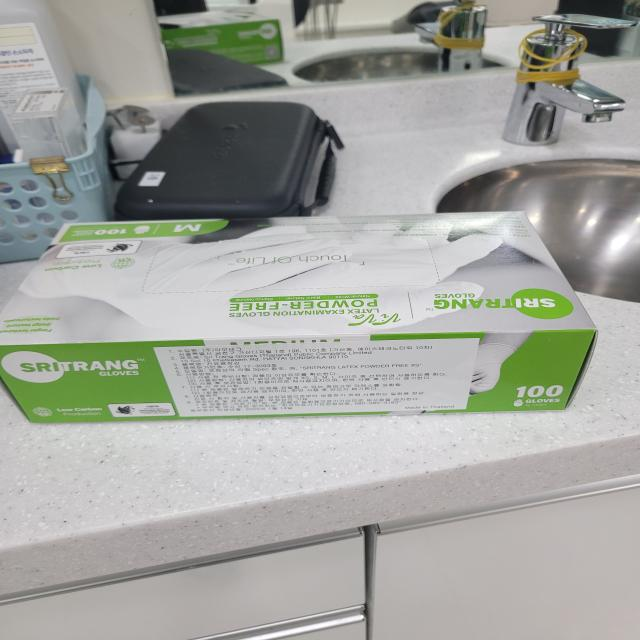glove: (3, 201, 616, 444)
